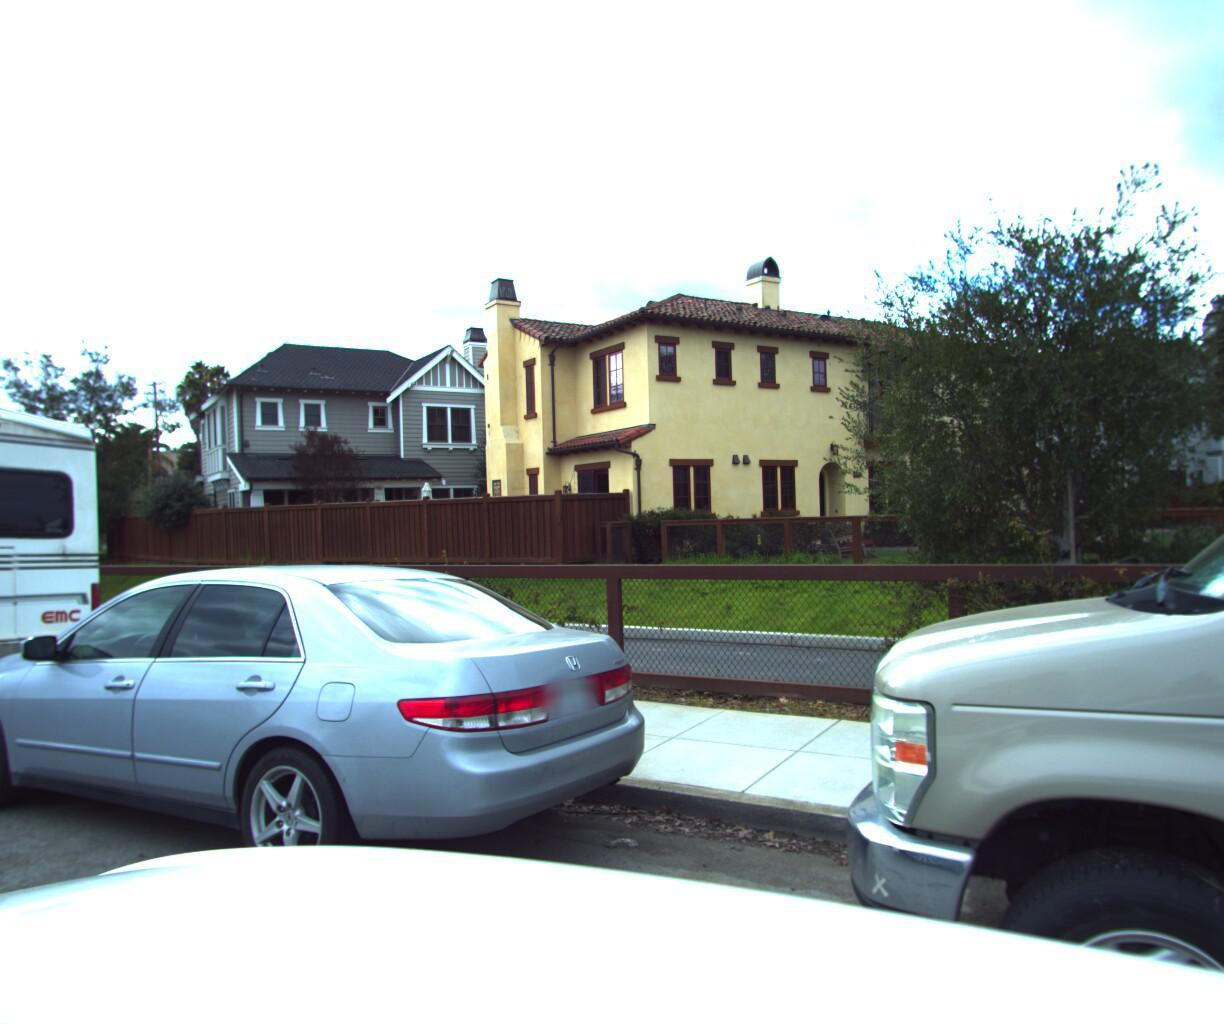car: (0, 553, 674, 979)
other_vehicle: (0, 333, 131, 808)
